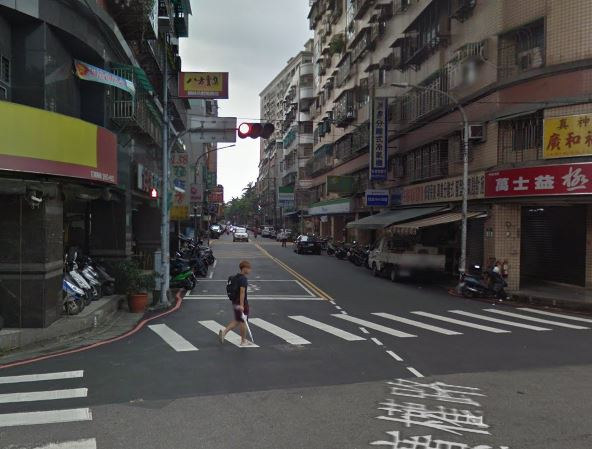Traffic_light_red: (237, 122, 274, 138)
